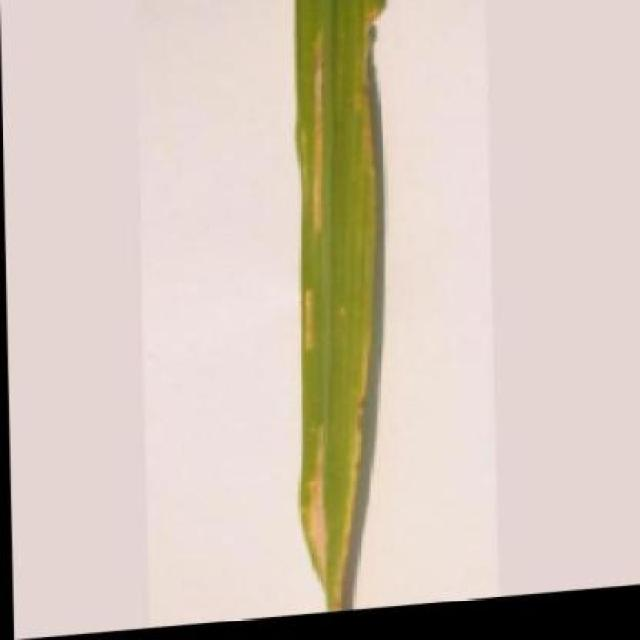Brown_Spot: (284, 0, 404, 620)
